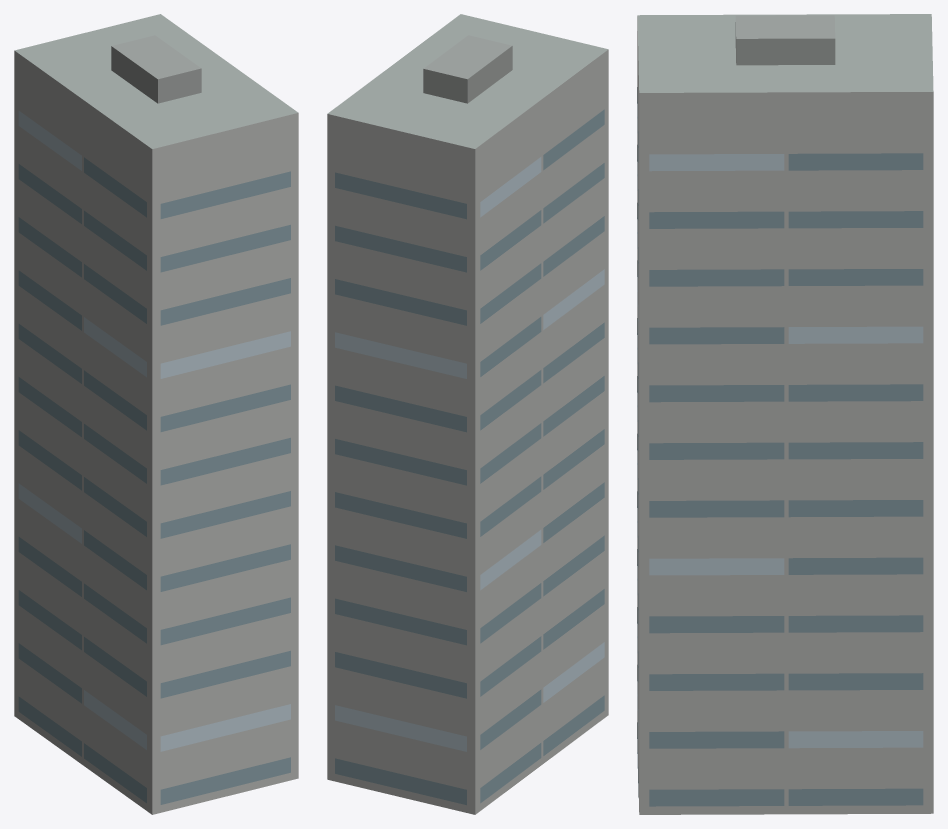
The model's file is fallback-sk-bukhansan-city-103.glb.
3 renders of one model, left to right at view 1: azimuth 30°, elevation 25°; view 2: azimuth 150°, elevation 25°; view 3: azimuth 270°, elevation 25°, orthographic. The views are drawn at different scales.
Parts seen in each view (by area): view 1: fallback-sk-bukhansan-city-103; view 2: fallback-sk-bukhansan-city-103; view 3: fallback-sk-bukhansan-city-103.
Boxes of the visible parts, x1,y1,x2,y2 form: fallback-sk-bukhansan-city-103: (14,14,298,814); fallback-sk-bukhansan-city-103: (327,14,608,814); fallback-sk-bukhansan-city-103: (637,14,933,814).
Size of the model in its own units: 15.47 by 68 by 24.45.
